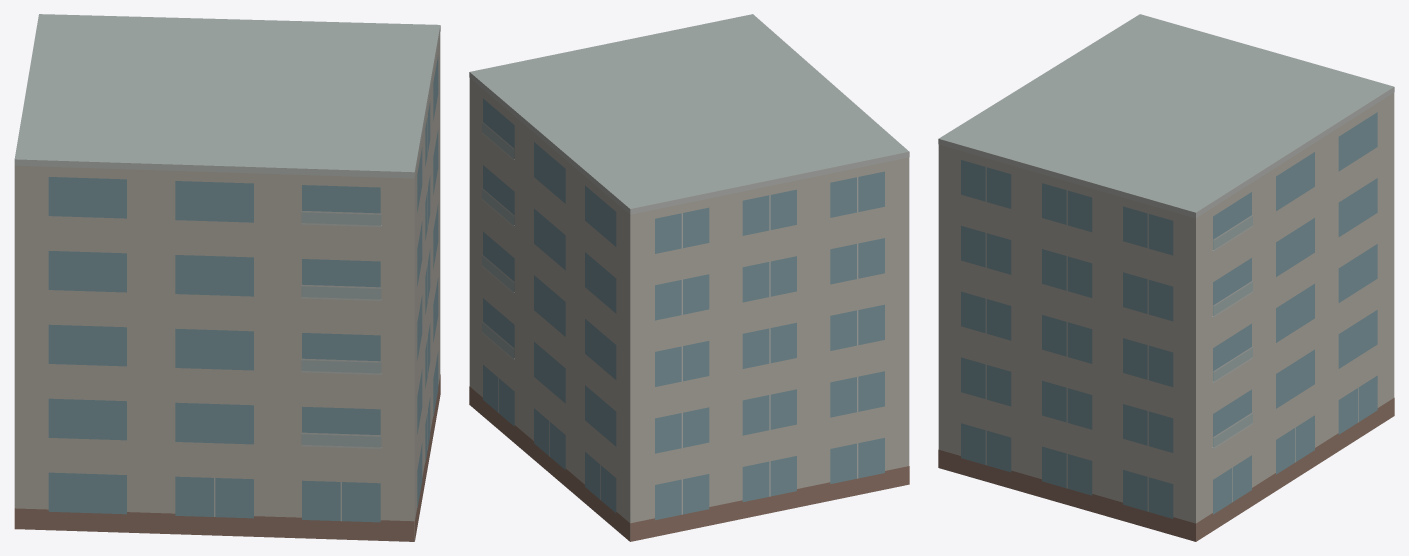
Rendered from survey-upis-32890859.glb.
The picture shows the model from 3 angles, left to right: view 1: azimuth 30°, elevation 25°; view 2: azimuth 150°, elevation 25°; view 3: azimuth 270°, elevation 25°; orthographic projection. The views are drawn at different scales.
Parts seen in each view (by area): view 1: survey-upis-32890859.tmp; view 2: survey-upis-32890859.tmp; view 3: survey-upis-32890859.tmp.
Boxes of the visible parts, x1,y1,x2,y2 form: survey-upis-32890859.tmp: (14,14,440,541); survey-upis-32890859.tmp: (469,14,909,541); survey-upis-32890859.tmp: (938,14,1394,541).
Bounding box in the file's own units: 18.65 × 14.4 × 18.09.
